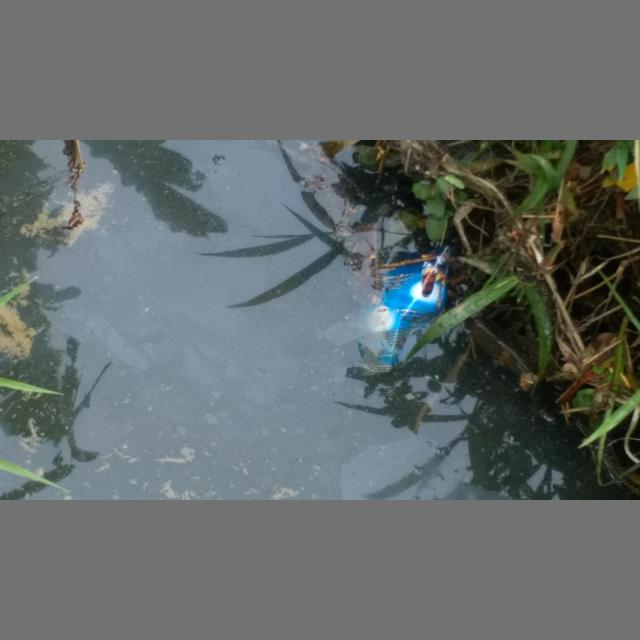litter: (356, 245, 456, 377)
